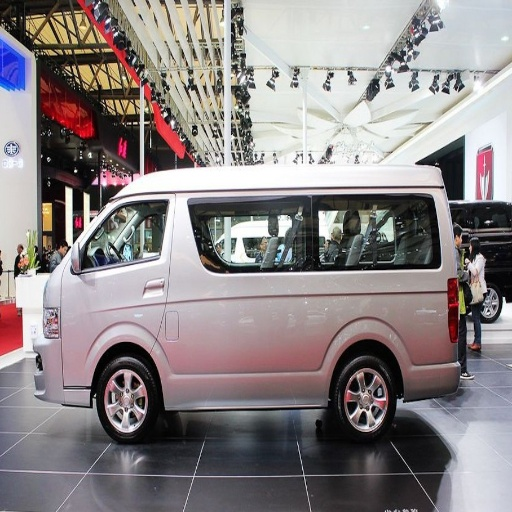trunk: (209, 272, 459, 397), (68, 318, 112, 386)
